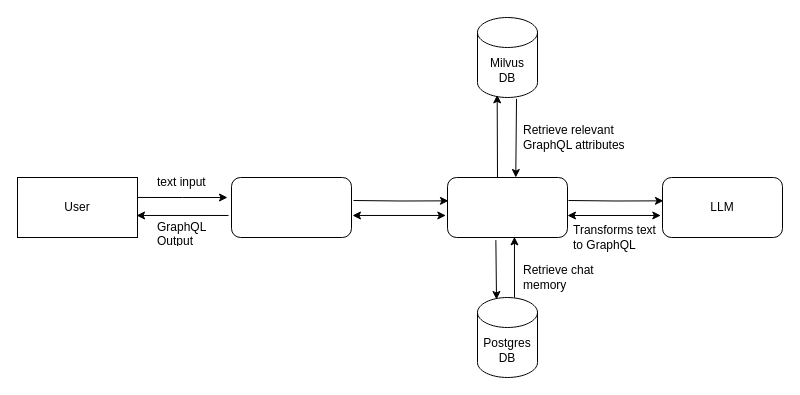
Image size: 800x395. Some labels were removed from this diagram. Here are the shapes that lost their labels. From the top down, the centre of each, then its label:
At point 291,207: "HTTP Endpoint".
At point 507,207: "Langgraph Server".
